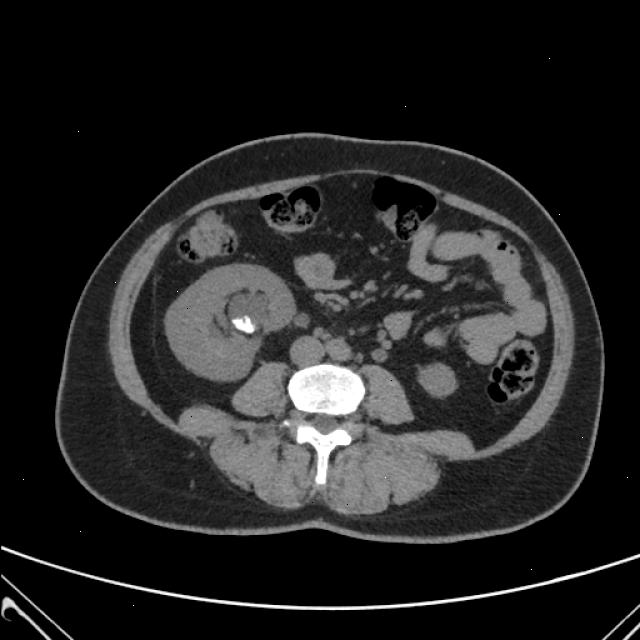kidneystone: (231, 315, 255, 333)
